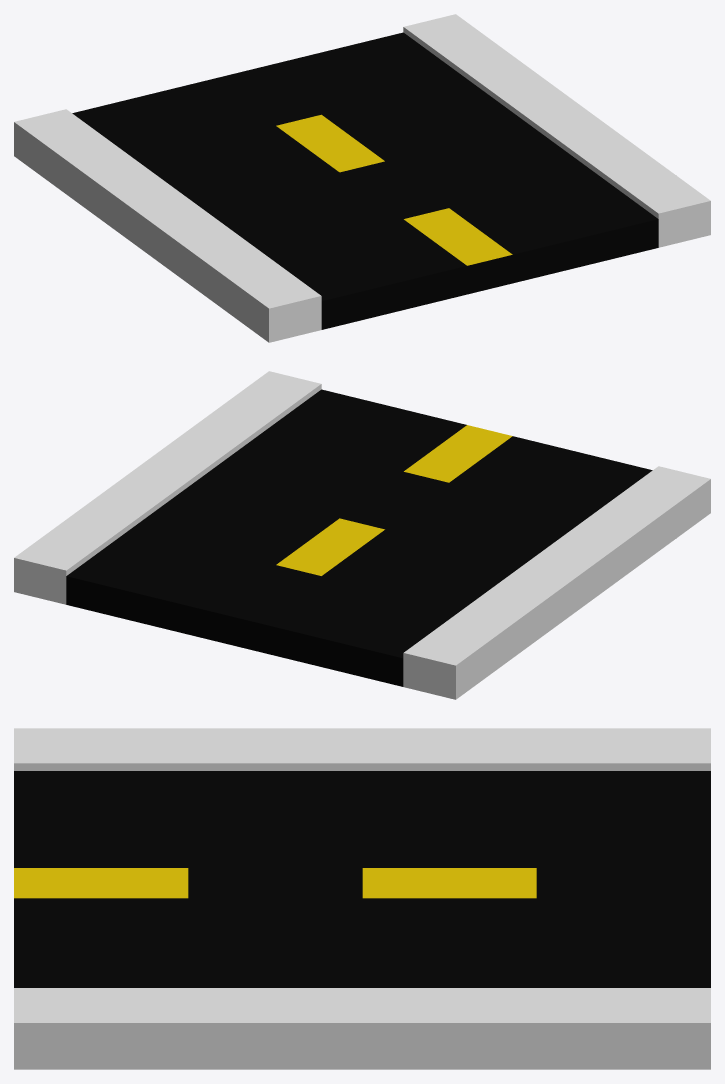
File: test_road.gltf
3 views of the same model, one above another, from view 1: azimuth 30°, elevation 25°; view 2: azimuth 150°, elevation 25°; view 3: azimuth 270°, elevation 25° (orthographic). The views are drawn at different scales.
Visible parts, largest first — view 1: Road; view 2: Road; view 3: Road.
Part boxes in pixels (box(x1,y1,x2,y2)): Road: box(14, 14, 710, 342); Road: box(14, 371, 710, 699); Road: box(14, 728, 710, 1069).
Size of the model in its own units: 9.14 by 0.6771 by 9.14.
